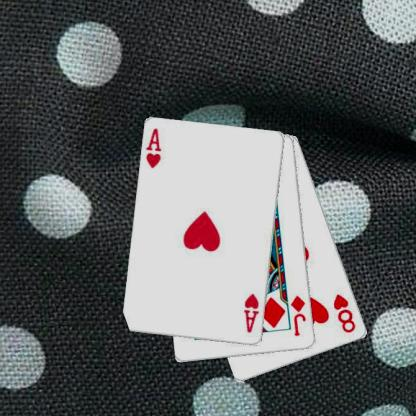8H: (331, 291, 357, 335)
AH: (144, 126, 164, 170), (241, 291, 261, 334)
JD: (288, 293, 307, 337)
